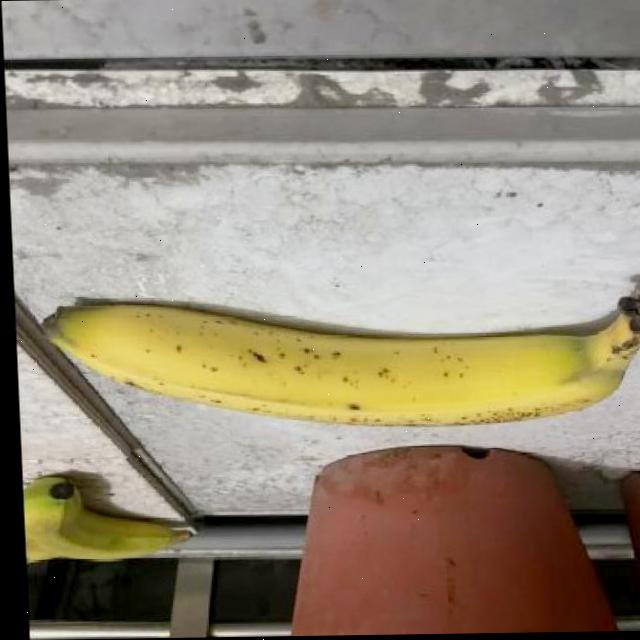banana: (34, 270, 640, 438)
